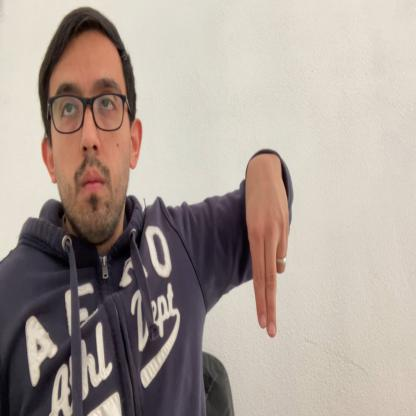N: (243, 162, 291, 337)
